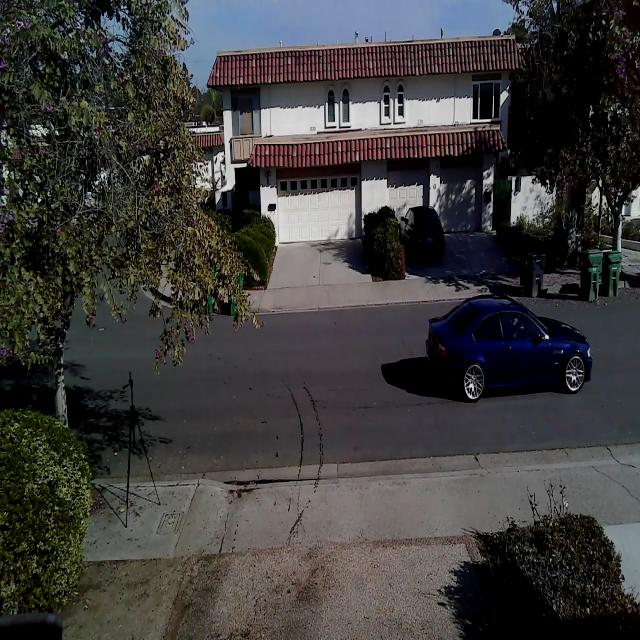Carbeetle: (421, 289, 596, 410)
Civilian: (397, 206, 445, 264)
